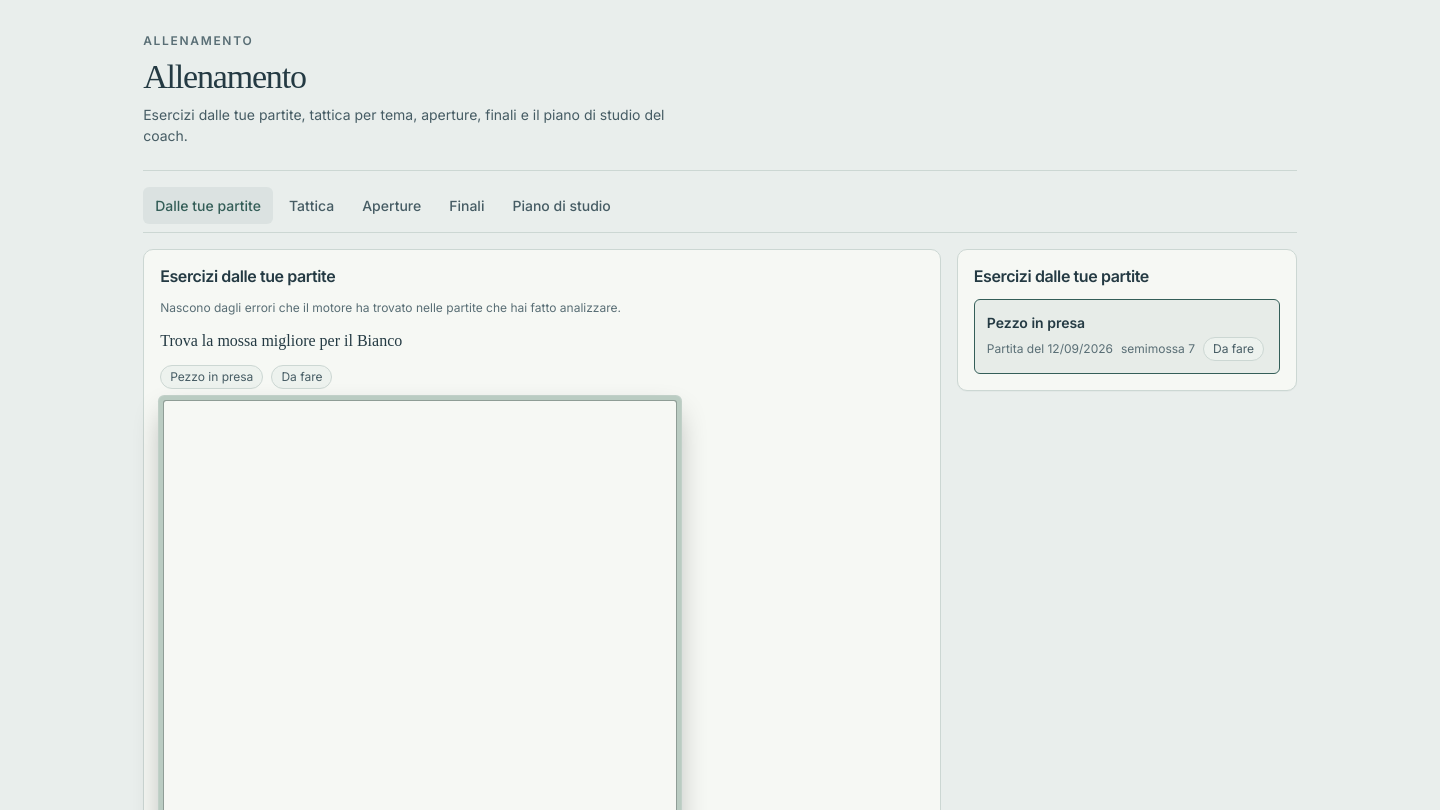
TrainingScreen › shows the openings with their recurring deviations
Click the tab "Aperture" at (392, 206), box [350,187,433,224]
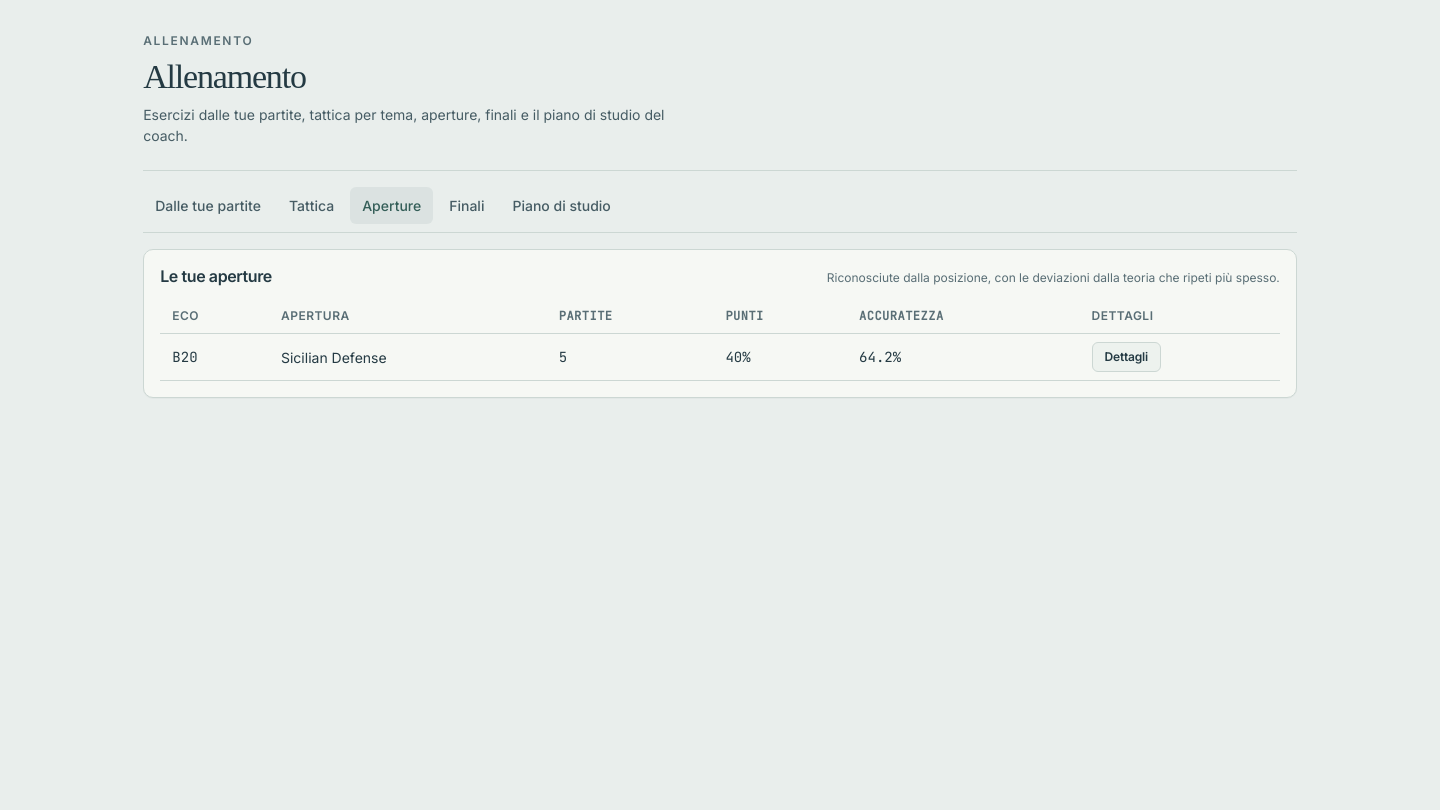
Expected: the text "Sicilian Defense" is shown, [269,334,547,381]
Click the button with aria-label "Apri Sicilian Defense" at (1126, 357), box [1092,342,1161,372]
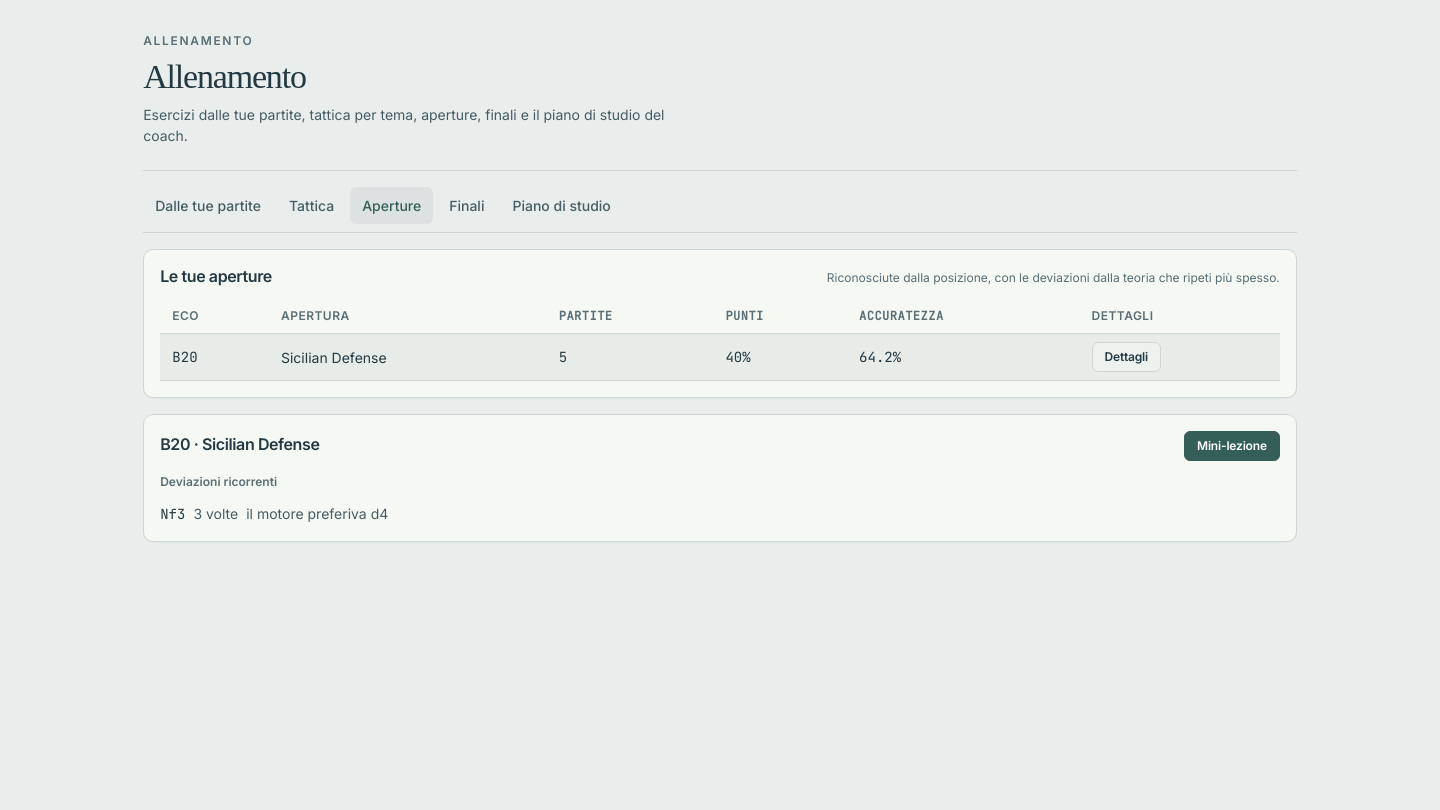
Expected: the text "Nf3" is shown, [160,504,185,525]
Expected: the text "3 volte" is shown, [193,503,238,524]
Expected: the text "il motore preferiva d4" is shown, [246,503,388,524]
Click the button "Mini-lezione" at (1232, 446), box [1184,431,1280,461]
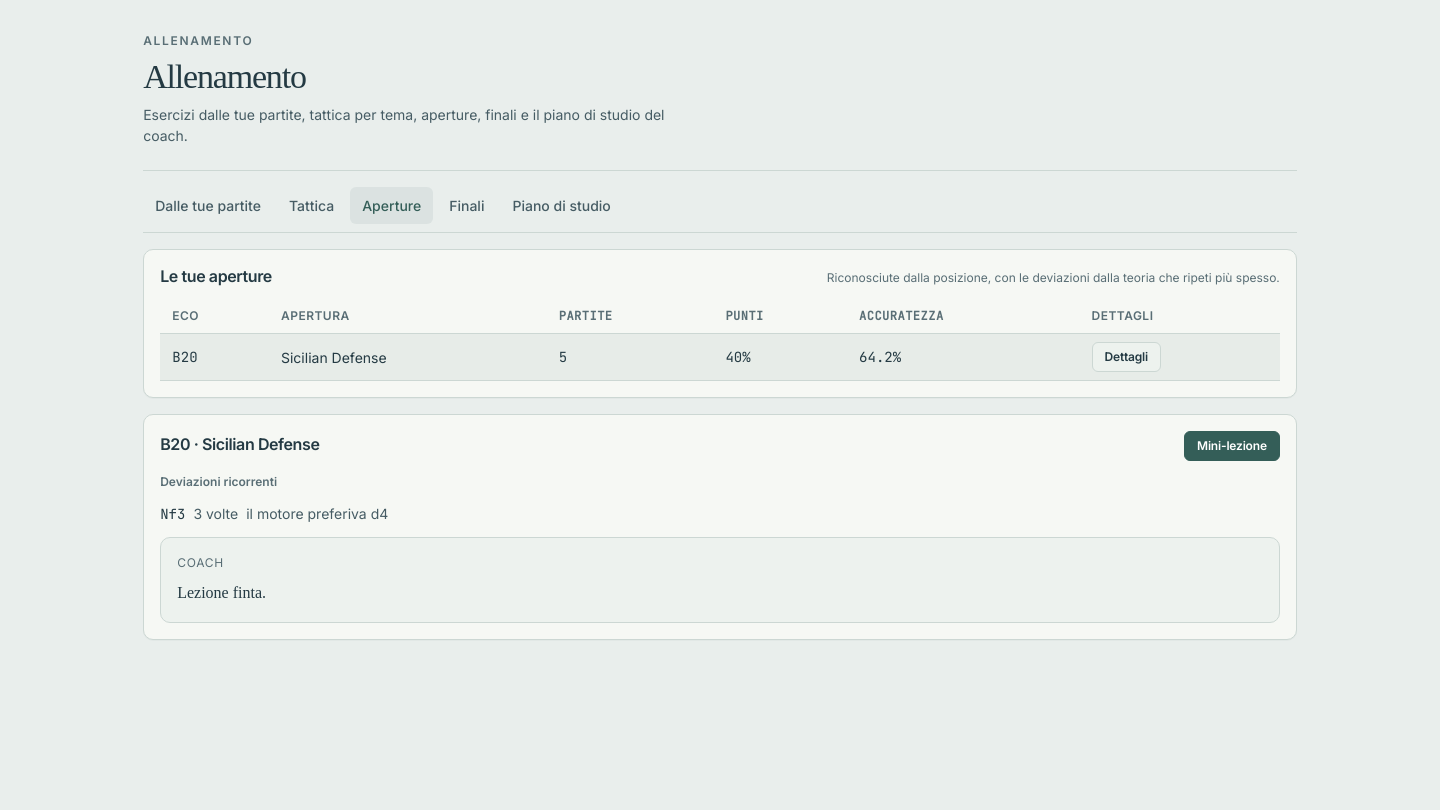
Expected: the element with test id "explanation-card" shows "Lezione finta.", [177,584,266,601]
